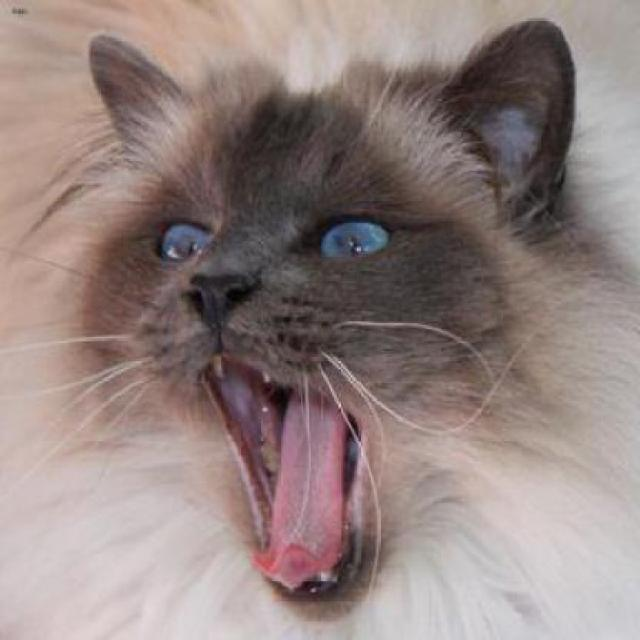cat: (80, 16, 638, 638)
